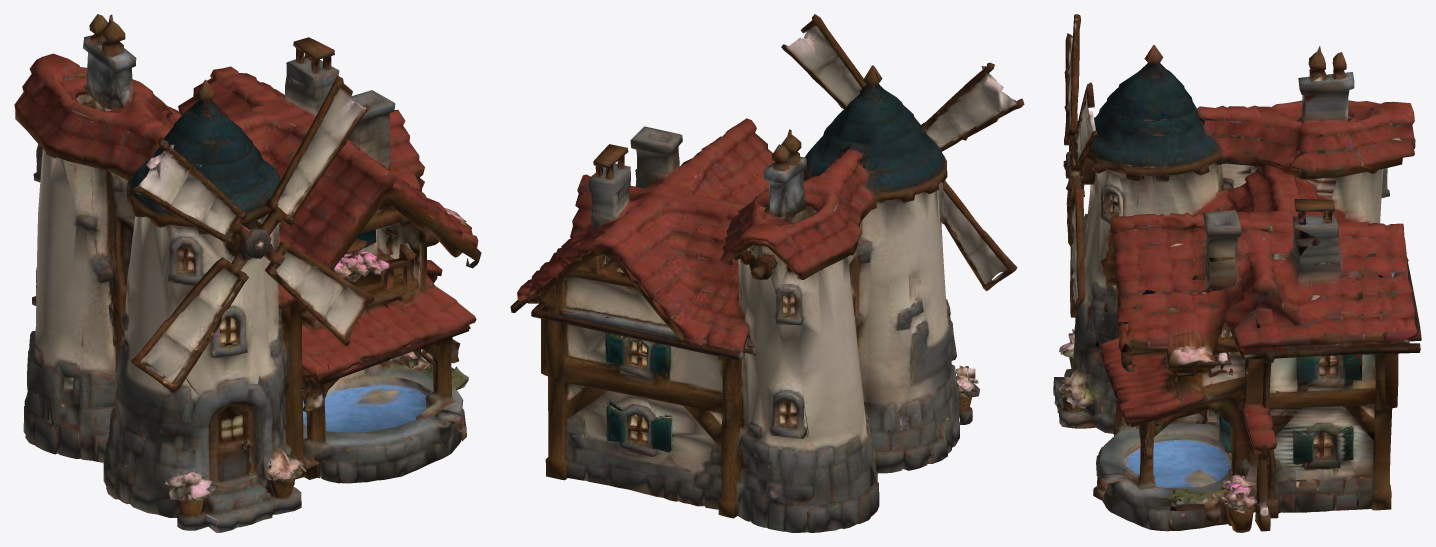
3 views of the same model, side by side, from view 1: azimuth 30°, elevation 25°; view 2: azimuth 150°, elevation 25°; view 3: azimuth 270°, elevation 25° (orthographic). The views are drawn at different scales.
Visible parts, largest first — view 1: alpine__windmill__neural_lod, alpine__windmill__neural_rotor; view 2: alpine__windmill__neural_lod, alpine__windmill__neural_rotor; view 3: alpine__windmill__neural_lod, alpine__windmill__neural_rotor.
Part boxes in pixels (left/top/right/bottom): alpine__windmill__neural_lod: left=14, top=14, right=481, bottom=532; alpine__windmill__neural_rotor: left=131, top=75, right=374, bottom=393; alpine__windmill__neural_lod: left=510, top=65, right=980, bottom=532; alpine__windmill__neural_rotor: left=781, top=14, right=1024, bottom=291; alpine__windmill__neural_lod: left=1053, top=45, right=1421, bottom=532; alpine__windmill__neural_rotor: left=1063, top=14, right=1097, bottom=317.
Bounding box in the file's own units: 1 × 0.9771 × 0.8604.
1 material, 1 textured.
